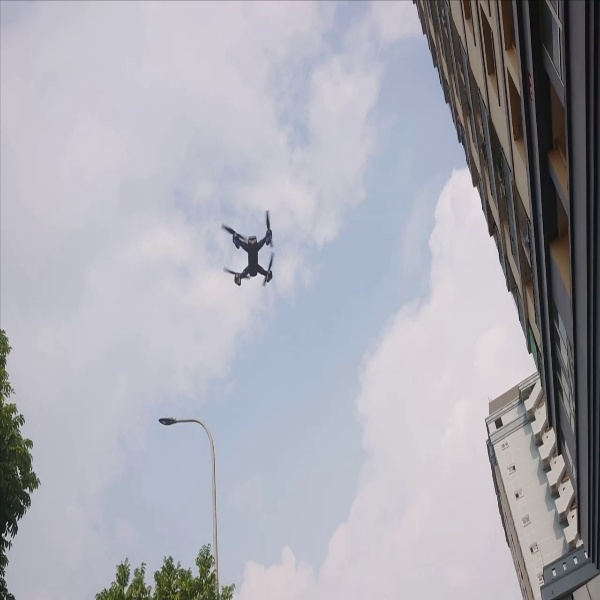drone: (213, 207, 293, 297)
